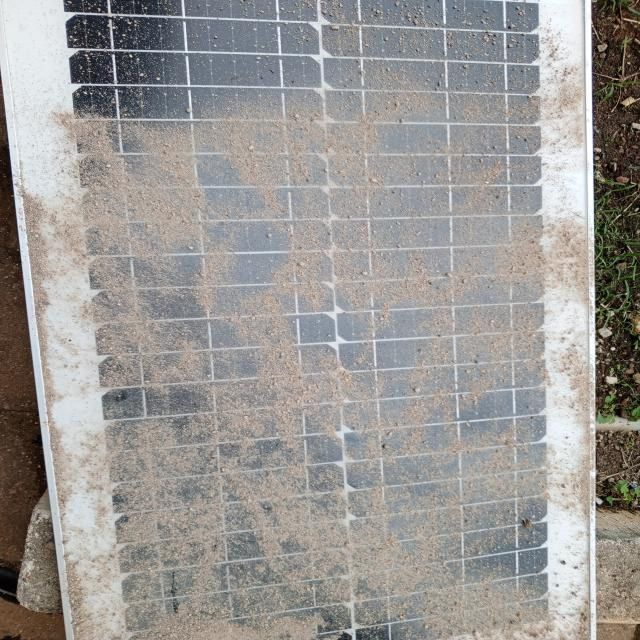Surface Contaminant: (87, 121, 570, 629)
